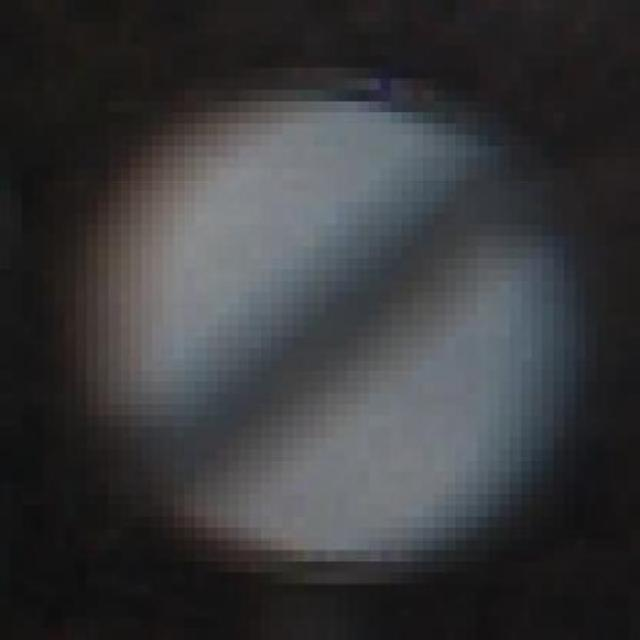End of all speed and passing limits: (43, 68, 597, 595)
